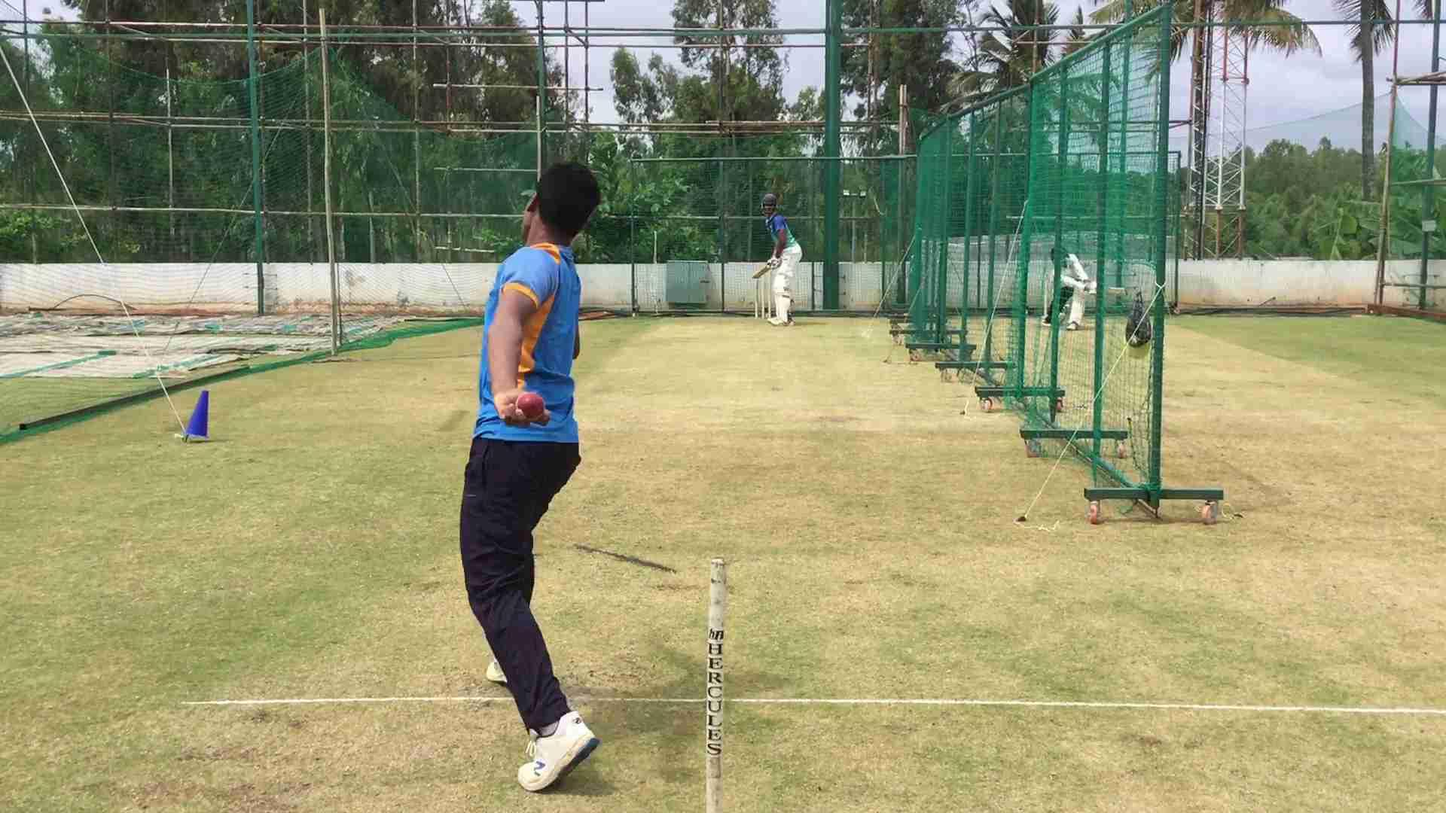batsman: (755, 186, 805, 332)
